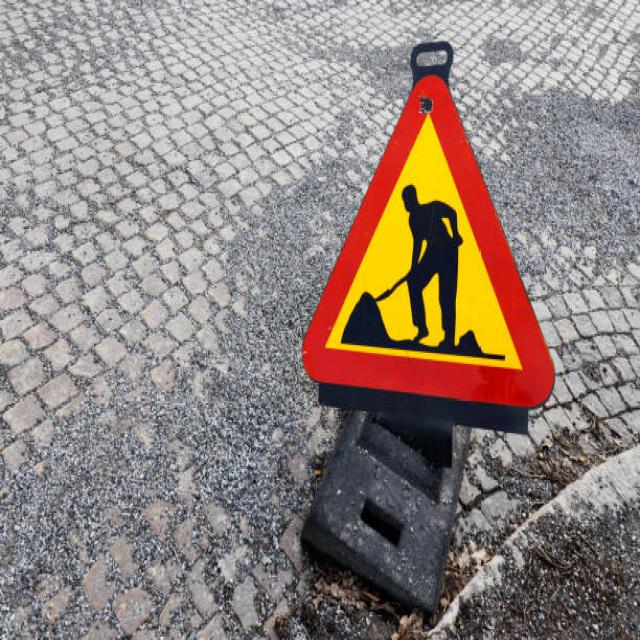road_work: (303, 78, 560, 404)
